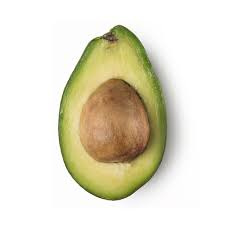avocado: (58, 24, 167, 202)
